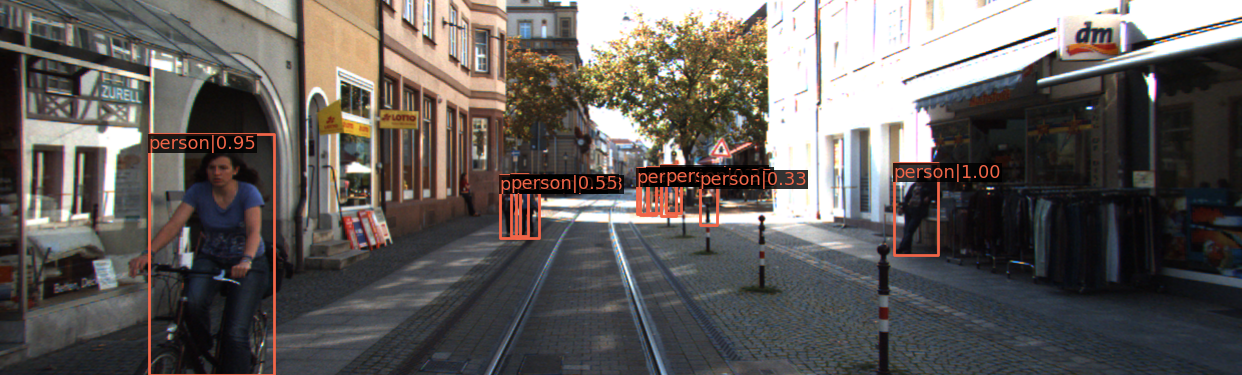person: (895, 167, 942, 255), (499, 176, 522, 239), (518, 178, 540, 237), (641, 171, 658, 218), (661, 169, 677, 216)
